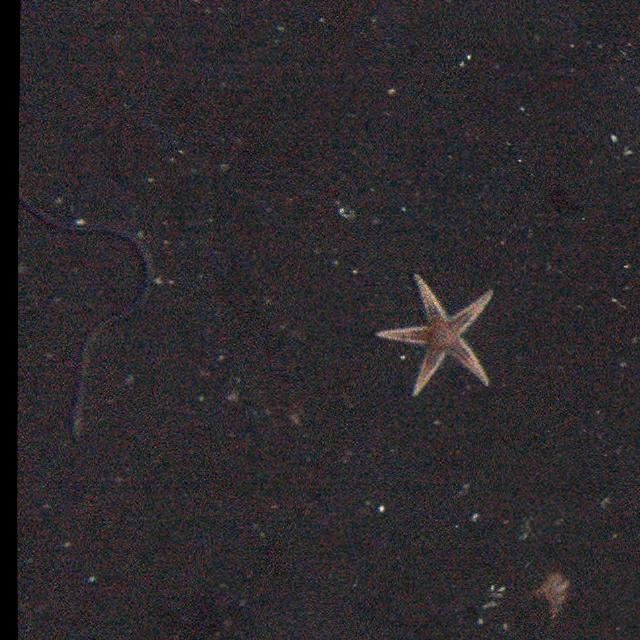eel: (17, 186, 152, 446)
